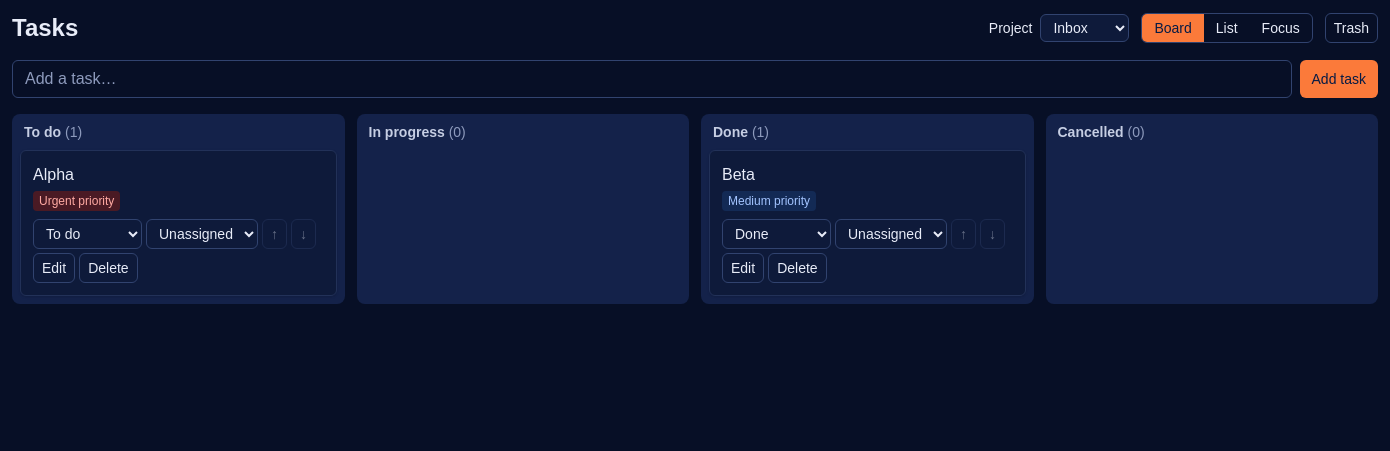
Test: choosing a view › starts on the board and can switch to the list and to focus, keeping the same tasks
The width and height of the screenshot is (1390, 451).
Expected: the heading "Alpha" is shown, [33,166,74,183]
Expected: the button "Board" is shown, [1142,14,1204,42]
What coordinates should you click on to do the following:
click the button "List"
I would click on:
 (1227, 28)
Its box is [1204,14,1250,42].
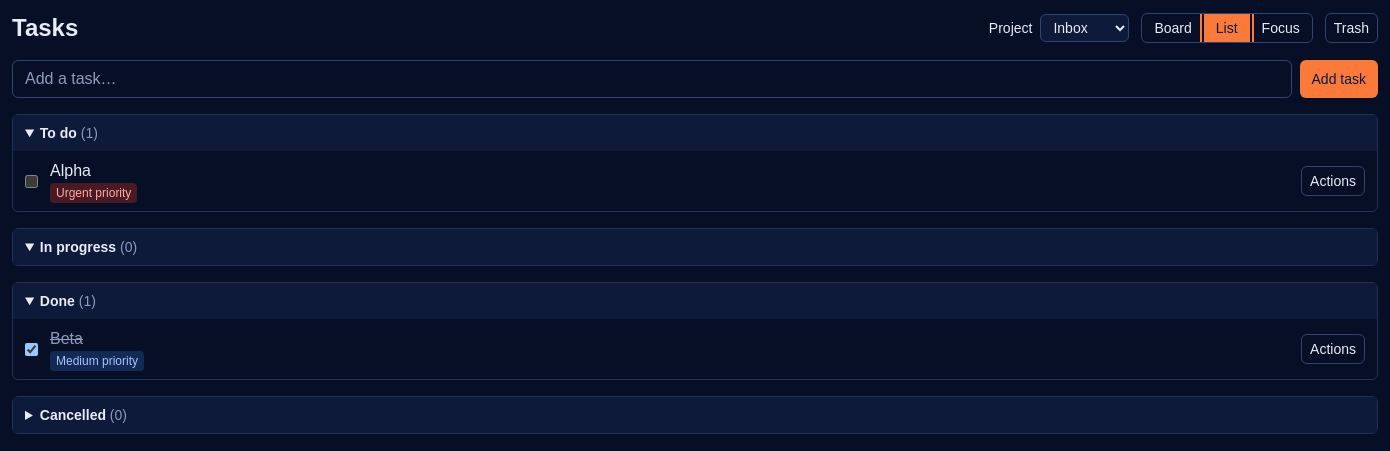
Expected: the heading "Alpha" is shown, [50,162,91,179]
Expected: the checkbox named "Complete Beta" is shown, [25,342,38,356]
What coordinates should you click on to do the following:
click the button "Focus"
I would click on:
 (1281, 28)
Its box is [1250,14,1312,42].
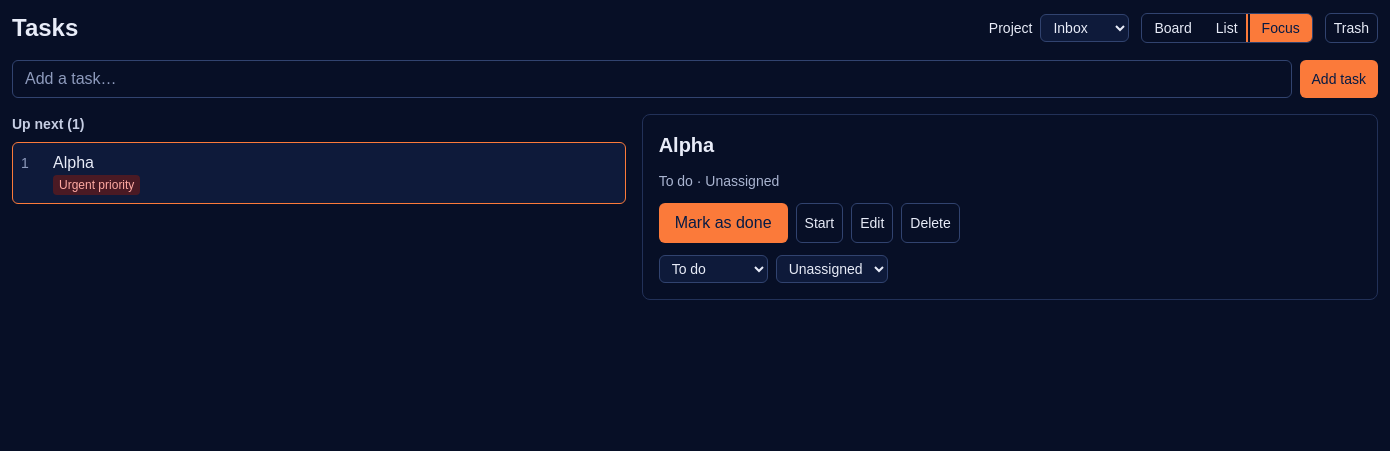
Expected: the element "Up next" is shown, [12,116,626,204]
Expected: the heading "Alpha" is shown, [659,134,714,156]
